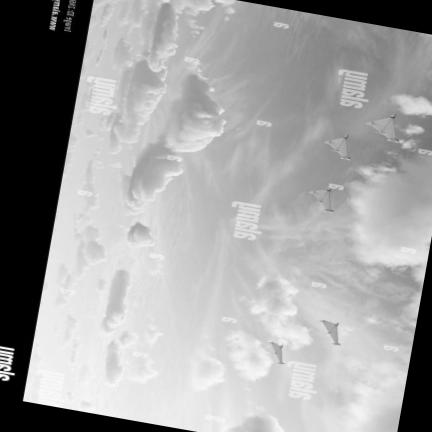Shahed: (367, 113, 398, 140), (324, 134, 349, 159), (309, 187, 332, 211), (320, 320, 339, 344), (269, 341, 283, 363)
